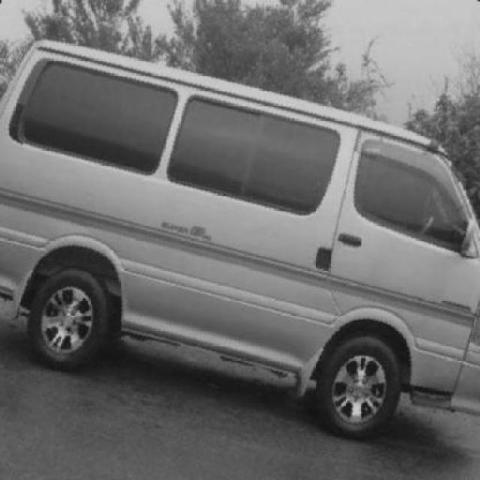van: (0, 38, 480, 436)
